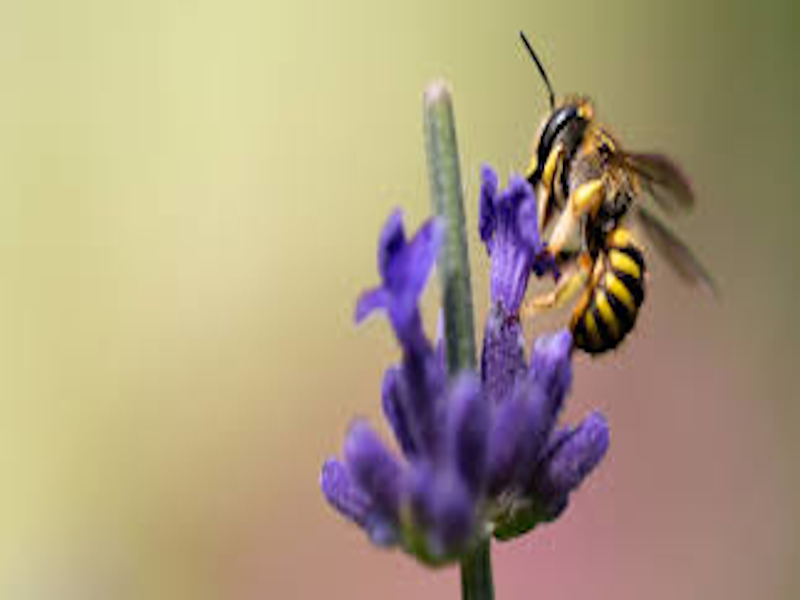chax: (489, 19, 735, 361)
